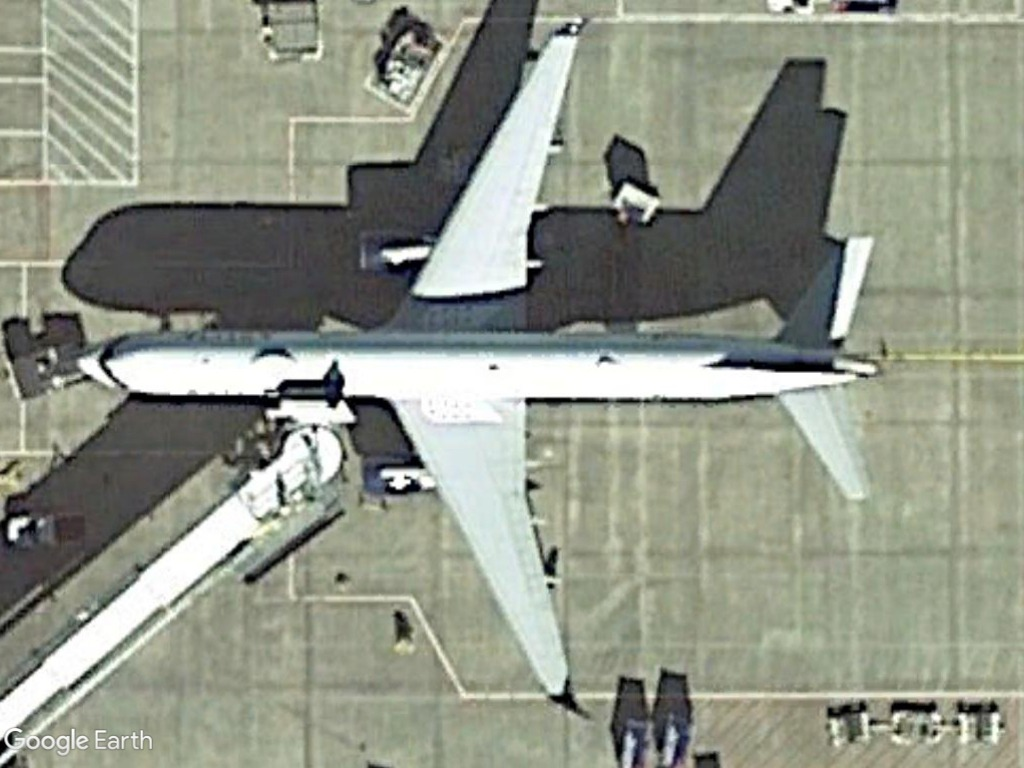airliner: (63, 11, 887, 719)
